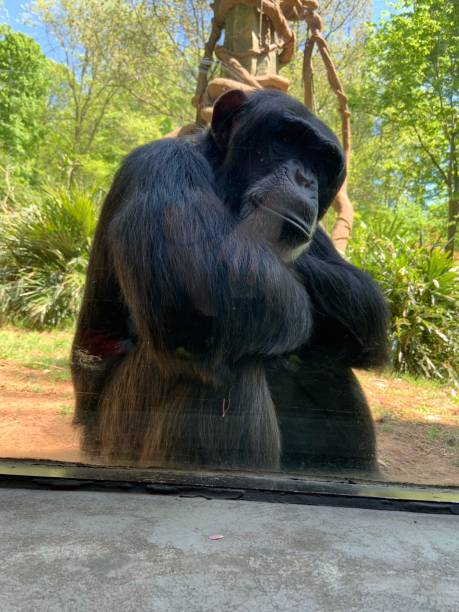chimpanzee: (184, 70, 392, 279)
